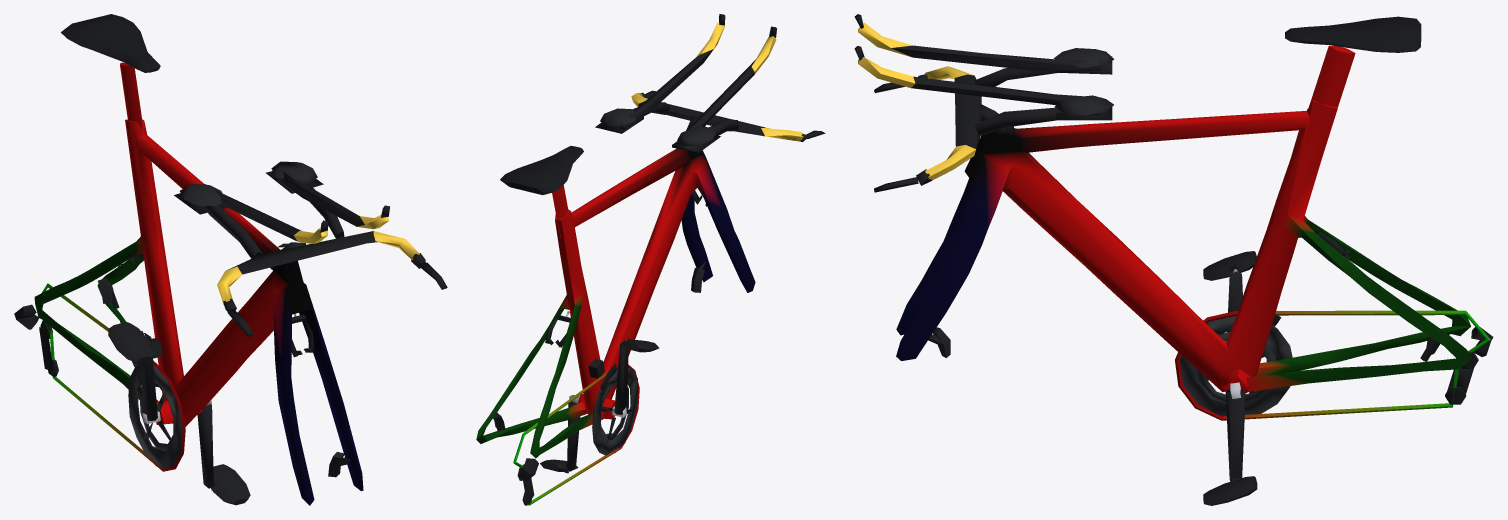
3 views of the same model, side by side, from view 1: azimuth 30°, elevation 25°; view 2: azimuth 150°, elevation 25°; view 3: azimuth 270°, elevation 25° (orthographic). The views are drawn at different scales.
Parts seen in each view (by area): view 1: frame, cockpit, crankset, saddle, pedal_R, opt_derailleur, pedal_L, opt_brakes_disc, opt_brakes_rim; view 2: frame, cockpit, crankset, saddle, opt_derailleur, opt_brakes_disc; view 3: frame, cockpit, crankset, saddle, opt_derailleur, pedal_L, pedal_R.
Boxes of the visible parts, bbox=[...] form: frame: bbox=[34, 62, 363, 505]; cockpit: bbox=[174, 161, 447, 336]; crankset: bbox=[128, 333, 213, 488]; saddle: bbox=[61, 14, 160, 72]; pedal_R: bbox=[108, 322, 153, 362]; opt_derailleur: bbox=[14, 304, 162, 376]; pedal_L: bbox=[211, 464, 250, 505]; opt_brakes_disc: bbox=[98, 278, 350, 477]; opt_brakes_rim: bbox=[118, 253, 313, 357]; frame: bbox=[476, 148, 755, 505]; cockpit: bbox=[595, 14, 825, 152]; crankset: bbox=[567, 340, 638, 471]; saddle: bbox=[500, 146, 583, 195]; opt_derailleur: bbox=[517, 359, 616, 505]; opt_brakes_disc: bbox=[492, 261, 705, 431]; frame: bbox=[896, 46, 1490, 420]; cockpit: bbox=[854, 14, 1114, 192]; crankset: bbox=[1180, 272, 1292, 480]; saddle: bbox=[1285, 16, 1421, 52]; opt_derailleur: bbox=[1272, 315, 1493, 404]; pedal_L: bbox=[1203, 476, 1257, 505]; pedal_R: bbox=[1203, 251, 1256, 280].
Bounding box in the file's own units: 0.4394 × 0.885 × 1.14.
